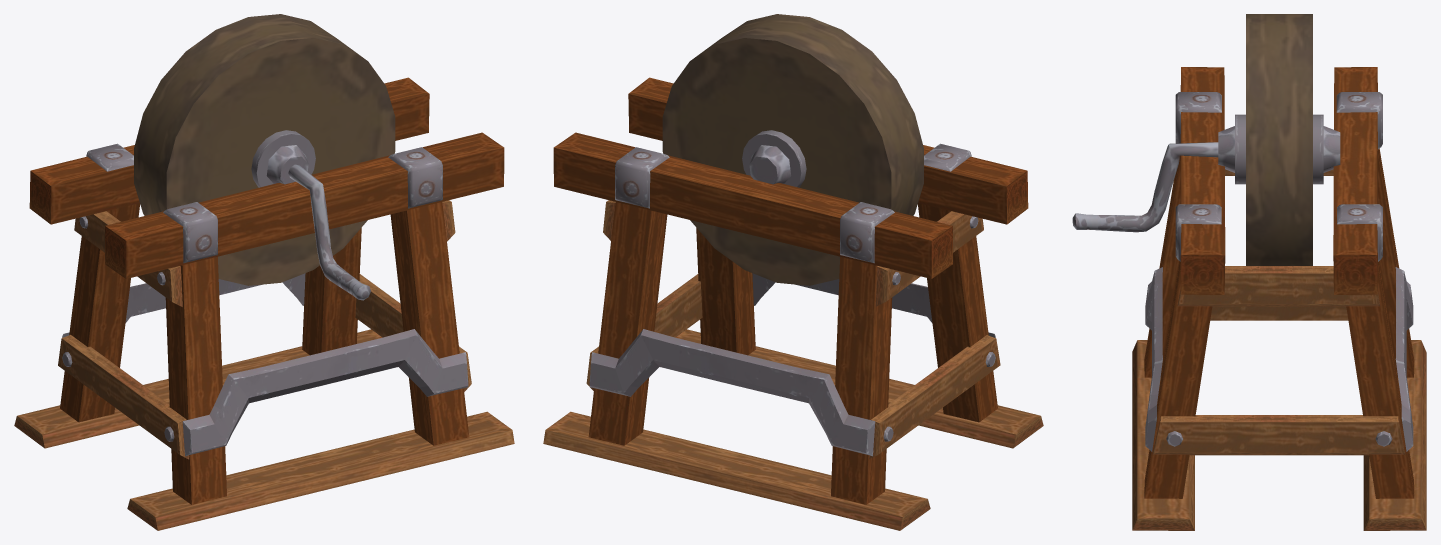
Rendered from Whetstone.gltf.
3 renders of one model, left to right at view 1: azimuth 30°, elevation 25°; view 2: azimuth 150°, elevation 25°; view 3: azimuth 270°, elevation 25°, orthographic. The views are drawn at different scales.
Parts seen in each view (by area): view 1: Whetstone; view 2: Whetstone; view 3: Whetstone.
Part boxes in pixels (left/top/right/bottom): Whetstone: left=14, top=14, right=514, bottom=530; Whetstone: left=543, top=14, right=1043, bottom=530; Whetstone: left=1072, top=14, right=1426, bottom=530.
Bounding box in the file's own units: 1.14 × 1.17 × 0.9018.
Materials: 3 (3 with a texture image).
